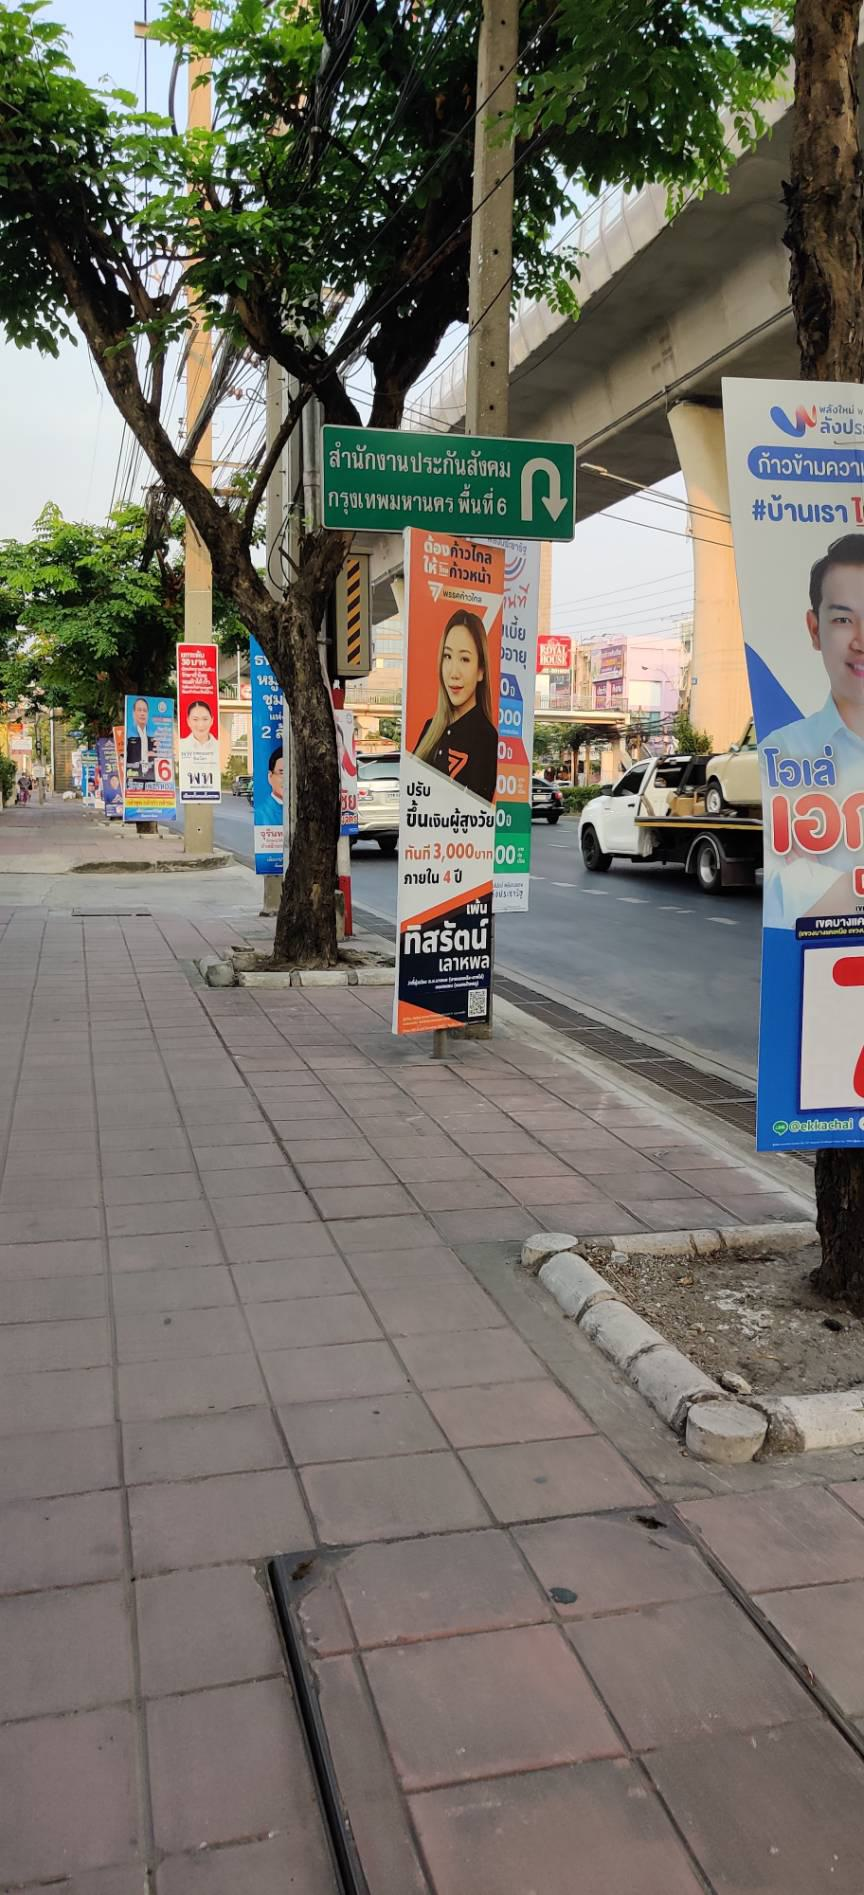Banner: (743, 377, 864, 1144), (388, 525, 521, 1047)
